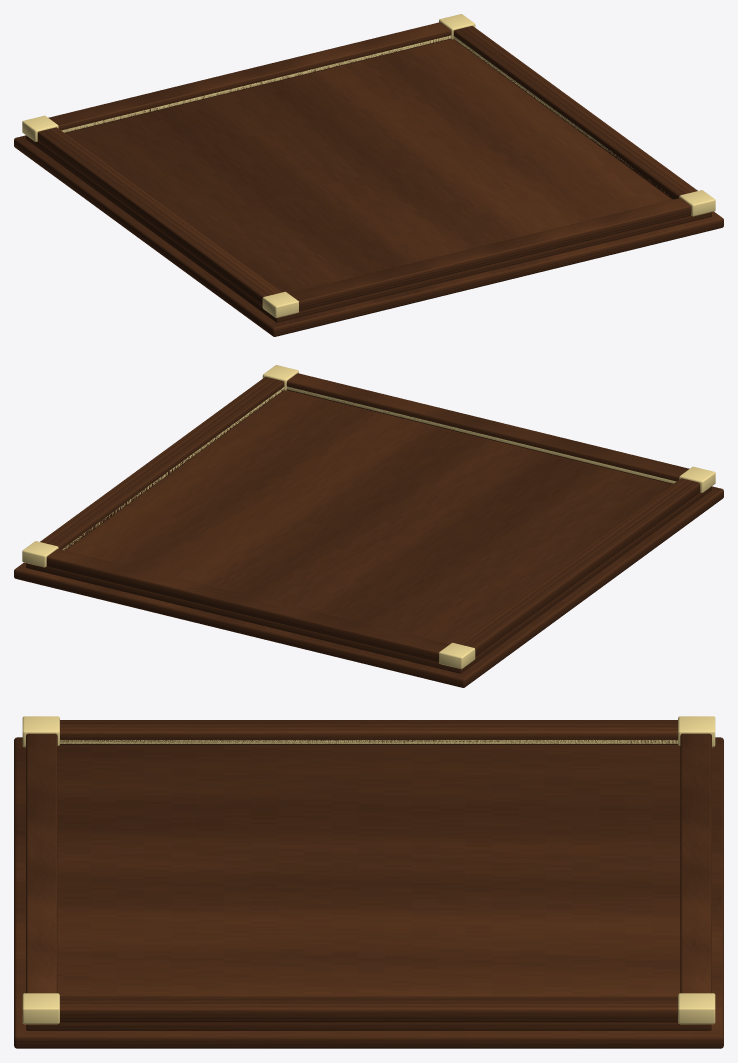
File: ludo_board_frame.glb
3 renders of one model, top to bottom at view 1: azimuth 30°, elevation 25°; view 2: azimuth 150°, elevation 25°; view 3: azimuth 270°, elevation 25°, orthographic. The views are drawn at different scales.
Parts seen in each view (by area): view 1: BoardBase, BoardPlinth, RimSouth, RimNorth, RimWest, RimEast, BrassTrimN, BrassCorner_-1_-1, BrassCorner_1_-1, BrassTrimE, BrassCorner_-1_1; view 2: BoardBase, BoardPlinth, RimNorth, RimSouth, RimWest, RimEast, BrassTrimS, BrassCorner_-1_1, BrassTrimE, BrassCorner_1_1, BrassCorner_-1_-1; view 3: BoardBase, BoardPlinth, RimEast, RimWest, RimNorth, RimSouth, BrassTrimW, BrassCorner_1_1, BrassCorner_1_-1, BrassCorner_-1_1, BrassCorner_-1_-1.
Part boxes in pixels (bbox=[...]): BoardBase: bbox=[26, 39, 711, 322]; BoardPlinth: bbox=[14, 135, 723, 336]; RimSouth: bbox=[288, 198, 691, 310]; RimNorth: bbox=[48, 22, 451, 133]; RimWest: bbox=[37, 127, 281, 305]; RimEast: bbox=[453, 26, 697, 199]; BrassTrimN: bbox=[61, 35, 451, 132]; BrassCorner_-1_-1: bbox=[262, 291, 298, 318]; BrassCorner_1_-1: bbox=[679, 190, 715, 216]; BrassTrimE: bbox=[453, 36, 673, 199]; BrassCorner_-1_1: bbox=[22, 115, 58, 141]; BoardBase: bbox=[26, 390, 711, 673]; BoardPlinth: bbox=[14, 486, 723, 687]; RimNorth: bbox=[46, 549, 449, 661]; RimSouth: bbox=[286, 373, 689, 484]; RimWest: bbox=[456, 478, 700, 656]; RimEast: bbox=[40, 377, 284, 550]; BrassTrimS: bbox=[286, 386, 676, 483]; BrassCorner_-1_1: bbox=[439, 642, 475, 669]; BrassTrimE: bbox=[62, 387, 284, 550]; BrassCorner_1_1: bbox=[22, 541, 58, 567]; BrassCorner_-1_-1: bbox=[679, 466, 715, 492]; BoardBase: bbox=[26, 745, 711, 1030]; BoardPlinth: bbox=[14, 737, 723, 1048]; RimEast: bbox=[60, 996, 677, 1022]; RimWest: bbox=[60, 720, 677, 744]; RimNorth: bbox=[680, 733, 711, 993]; RimSouth: bbox=[26, 733, 57, 993]; BrassTrimW: bbox=[60, 740, 677, 743]; BrassCorner_1_1: bbox=[678, 993, 715, 1024]; BrassCorner_1_-1: bbox=[22, 993, 59, 1024]; BrassCorner_-1_1: bbox=[678, 716, 715, 747]; BrassCorner_-1_-1: bbox=[22, 716, 59, 747].
Size of the model in its own units: 17.1 by 1.01 by 17.1.
2 materials, 1 textured.
